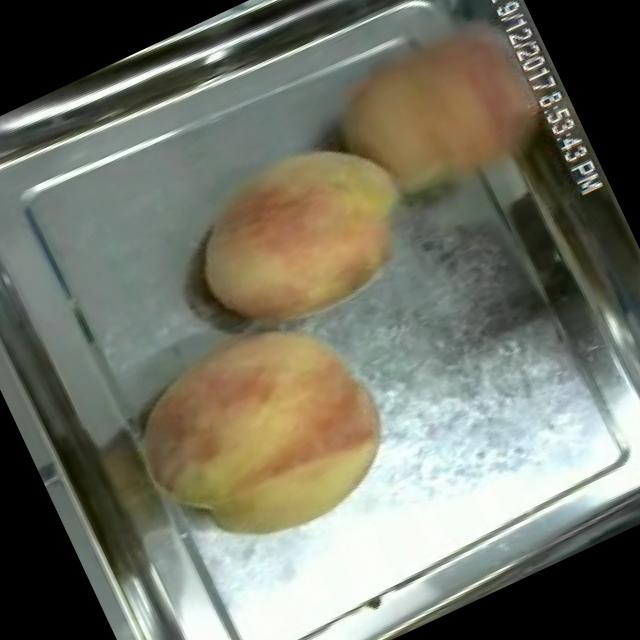Fruit: (104, 282, 421, 586), (161, 105, 443, 364), (298, 0, 585, 242)
